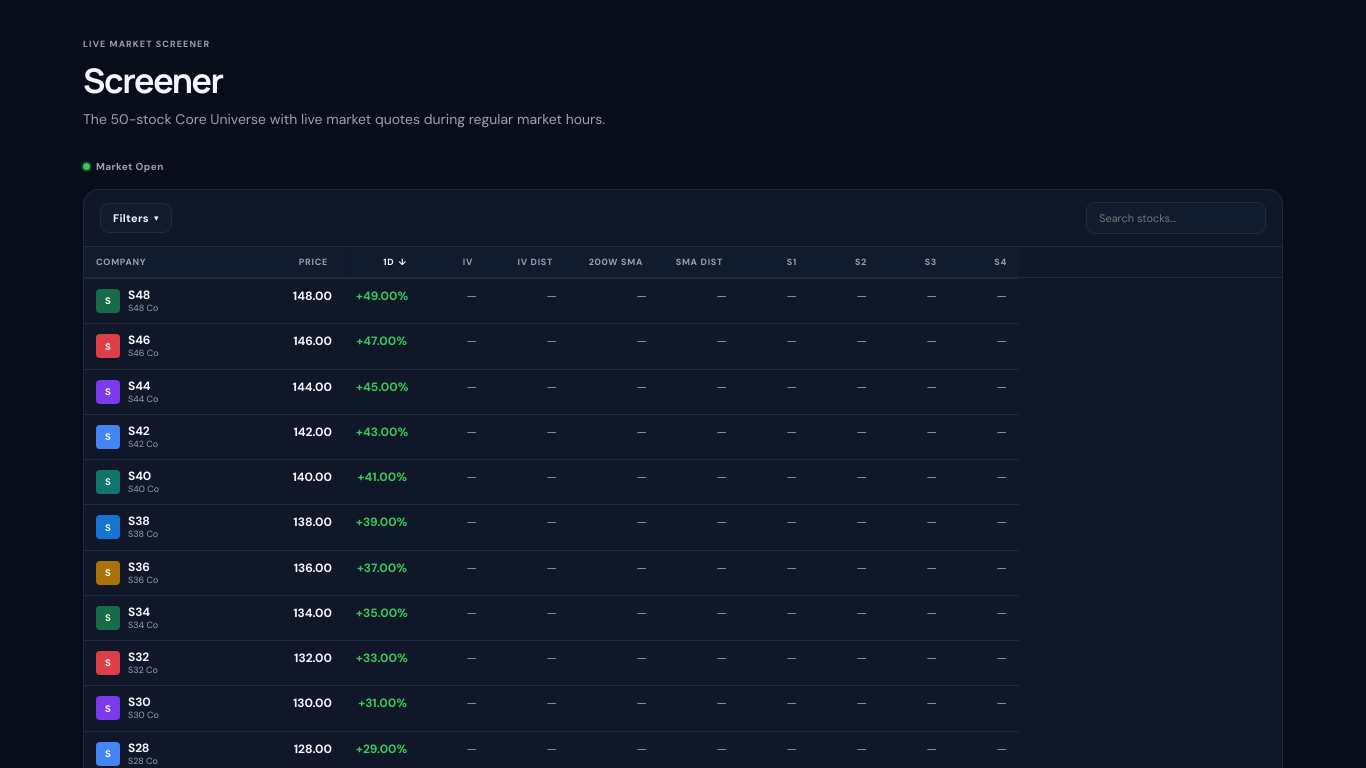
Scenario: ScreenerPage › F) click X clears filter AND closes popover
# Open Filters and select Below IV
What coordinates should you click on to do the following:
click the button "Filters ▾"
I would click on:
 (136, 218)
Its box is x1=100 y1=203 x2=172 y2=233.
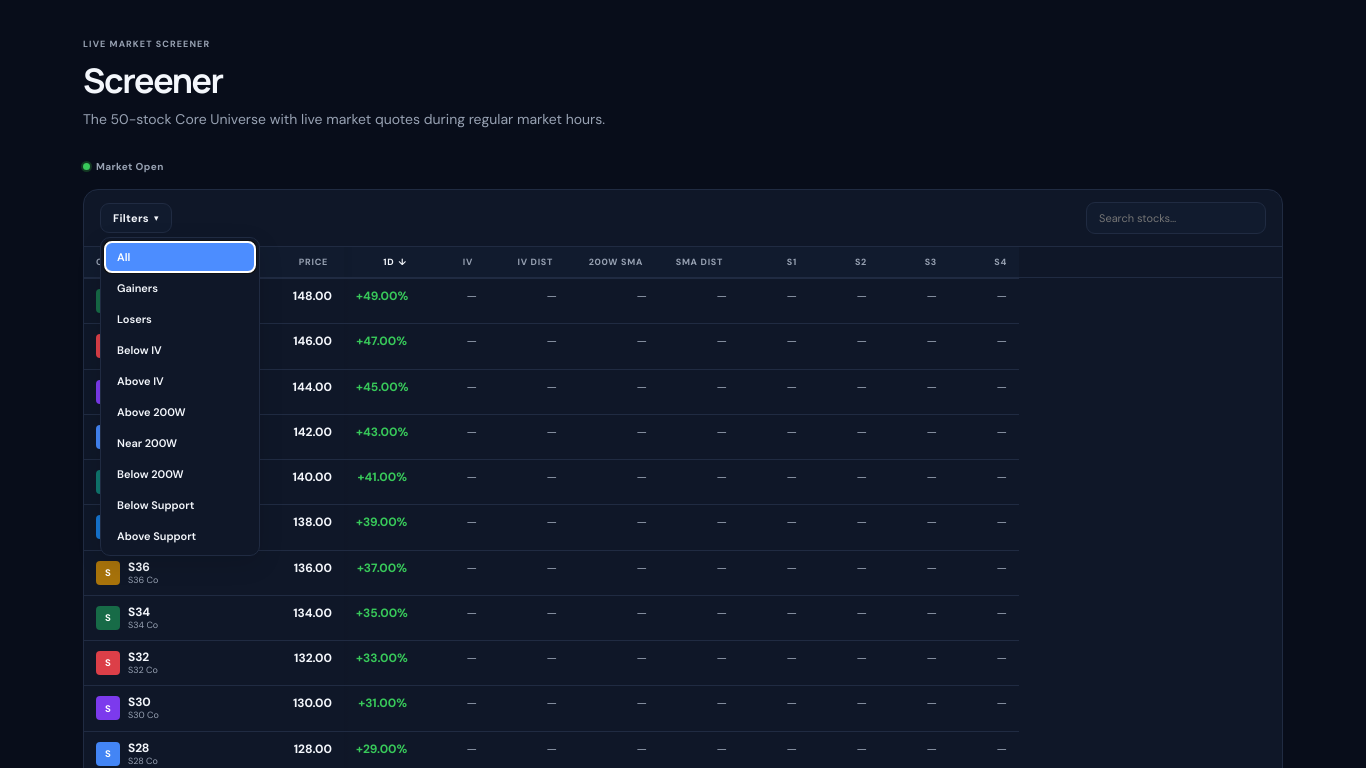
What coordinates should you click on to do the following:
click the menu item "Below IV"
I would click on:
 (180, 350)
Its box is x1=105 y1=335 x2=255 y2=365.
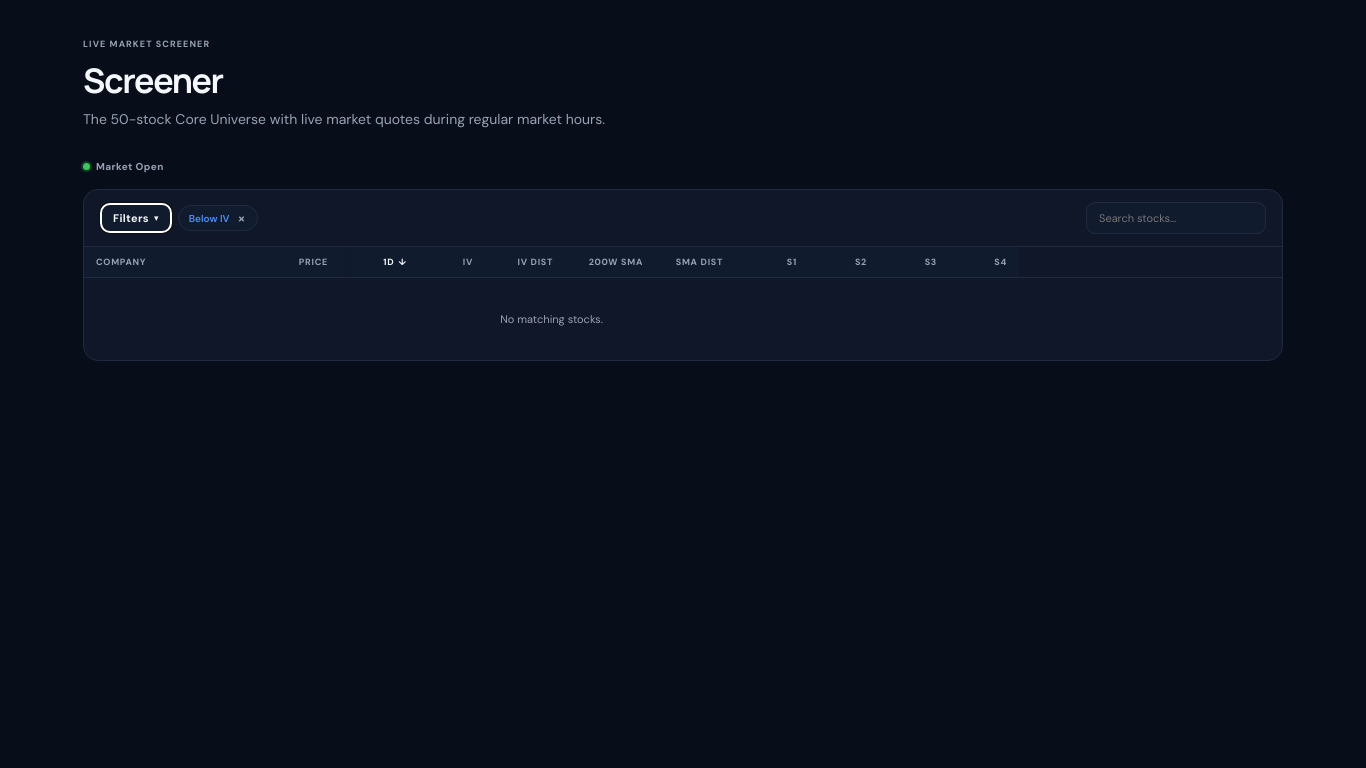
Expected: the text "Below IV" is shown, x1=189 y1=212 x2=229 y2=225
# Reopen Filters (filter is now active, chip is visible)
What coordinates should you click on to do the following:
click the button "Filters ▾"
I would click on:
 (136, 218)
Its box is x1=100 y1=203 x2=172 y2=233.
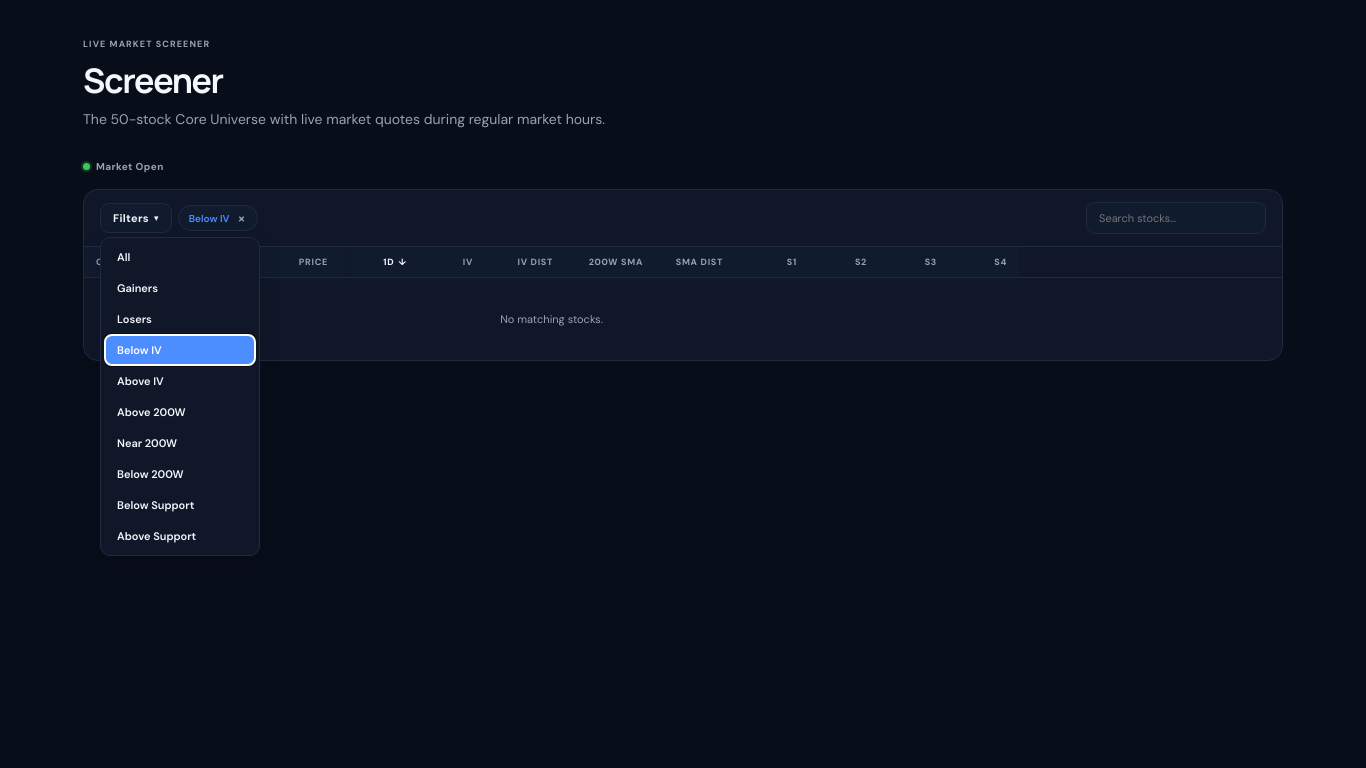
Expected: the menu item "All" is shown, x1=105 y1=242 x2=255 y2=272
# Click X to clear
What coordinates should you click on to do the following:
click the button named "Clear Below IV filter"
I would click on:
 (242, 218)
Its box is x1=234 y1=210 x2=250 y2=226.
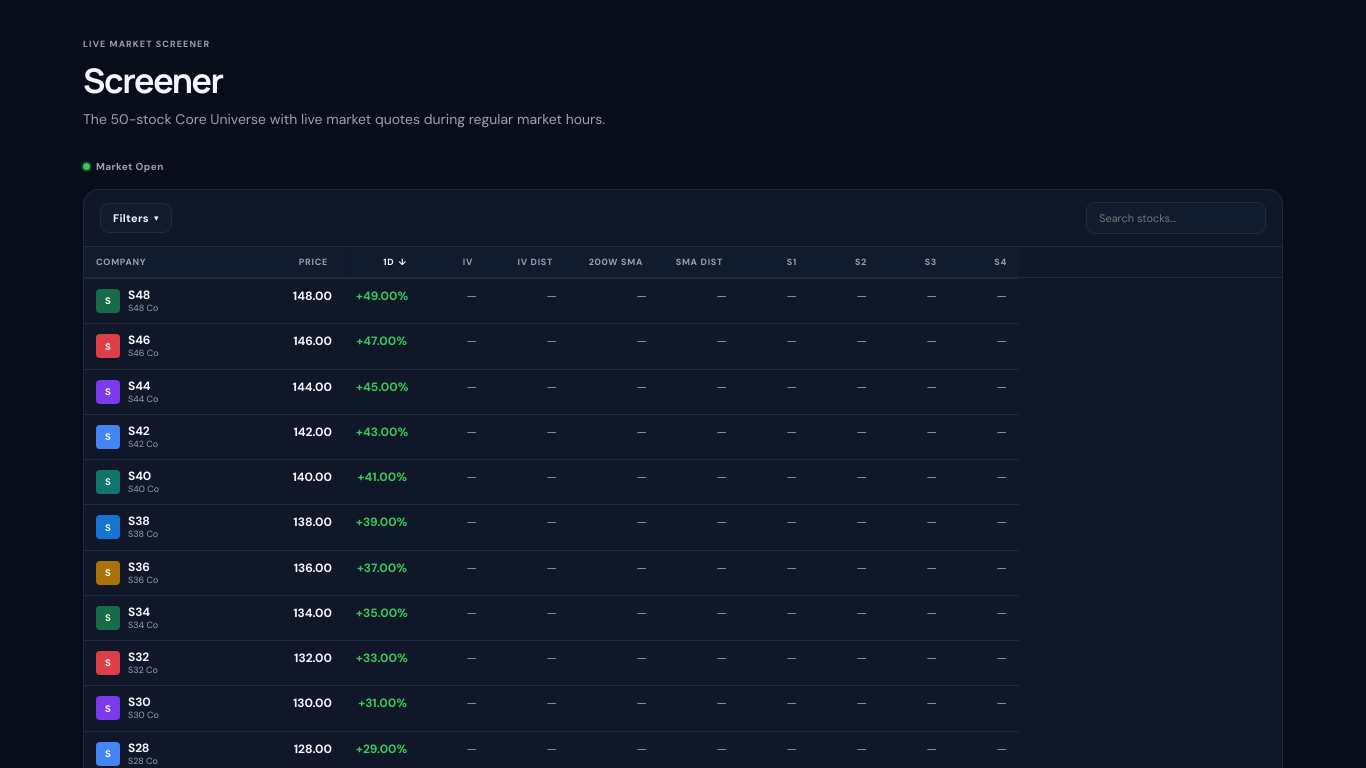
Expected: the text "Below IV" is gone
Expected: the menu item "All" is gone
